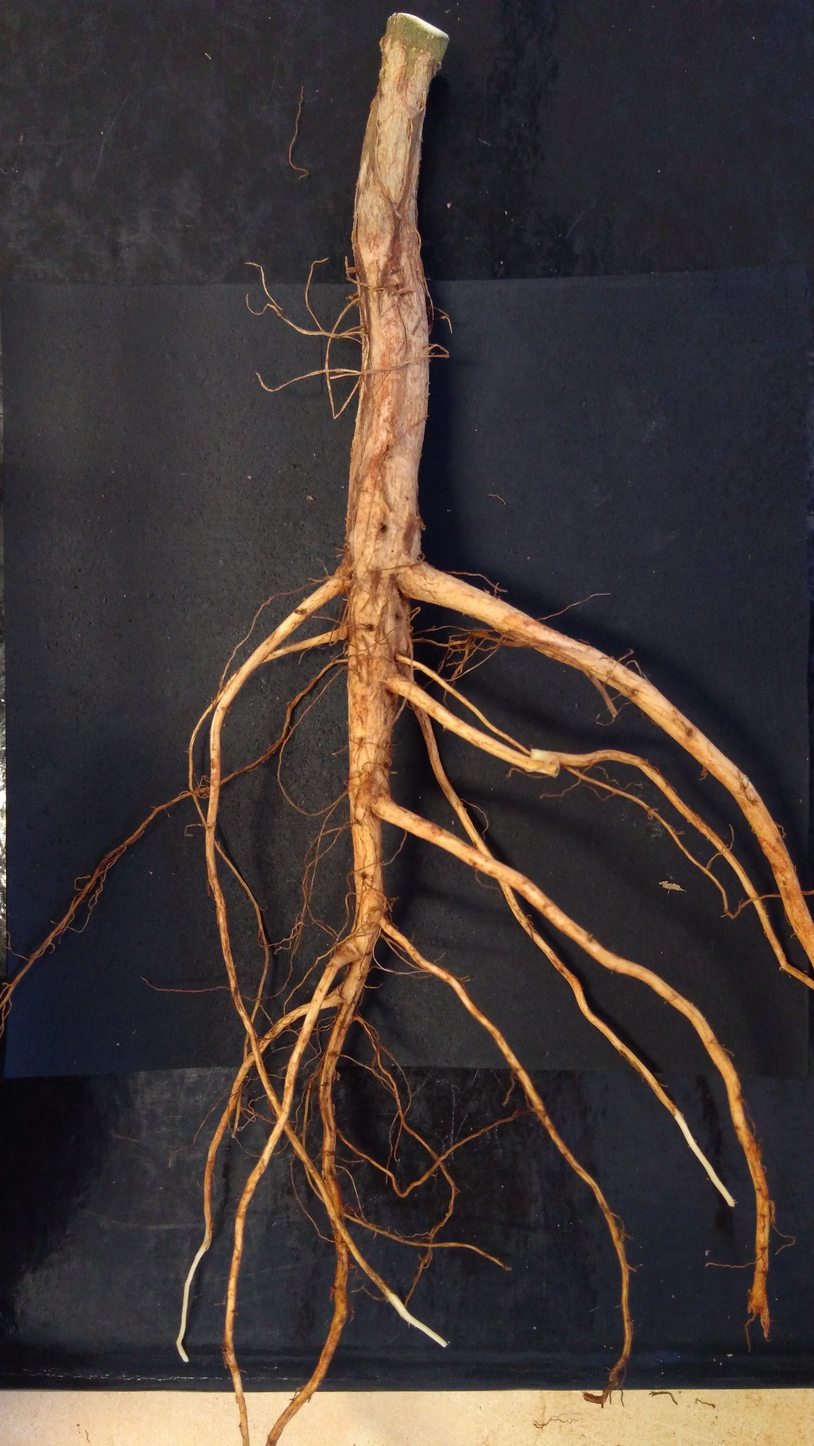nodule: (526, 748, 561, 778), (347, 266, 358, 274)
